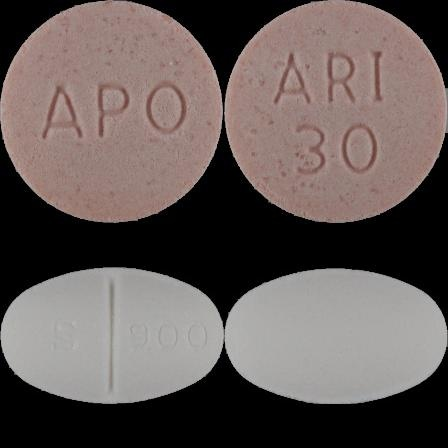60429-451: (0, 0, 224, 224)
